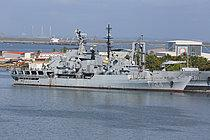MIL_Ship: (8, 46, 198, 92)
